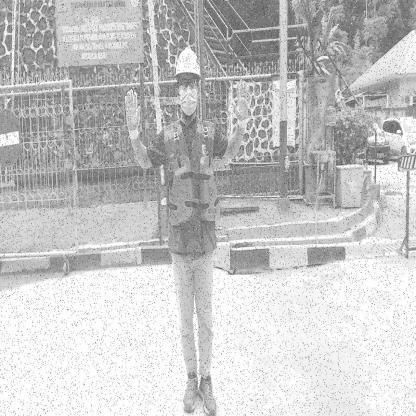boots: (198, 375, 218, 415), (182, 370, 198, 414)
gloves: (230, 77, 250, 130), (124, 88, 142, 142)
goggles: (180, 78, 198, 90)
helmet: (176, 46, 200, 76)
mask: (180, 90, 197, 116)
vest: (168, 153, 220, 228)
